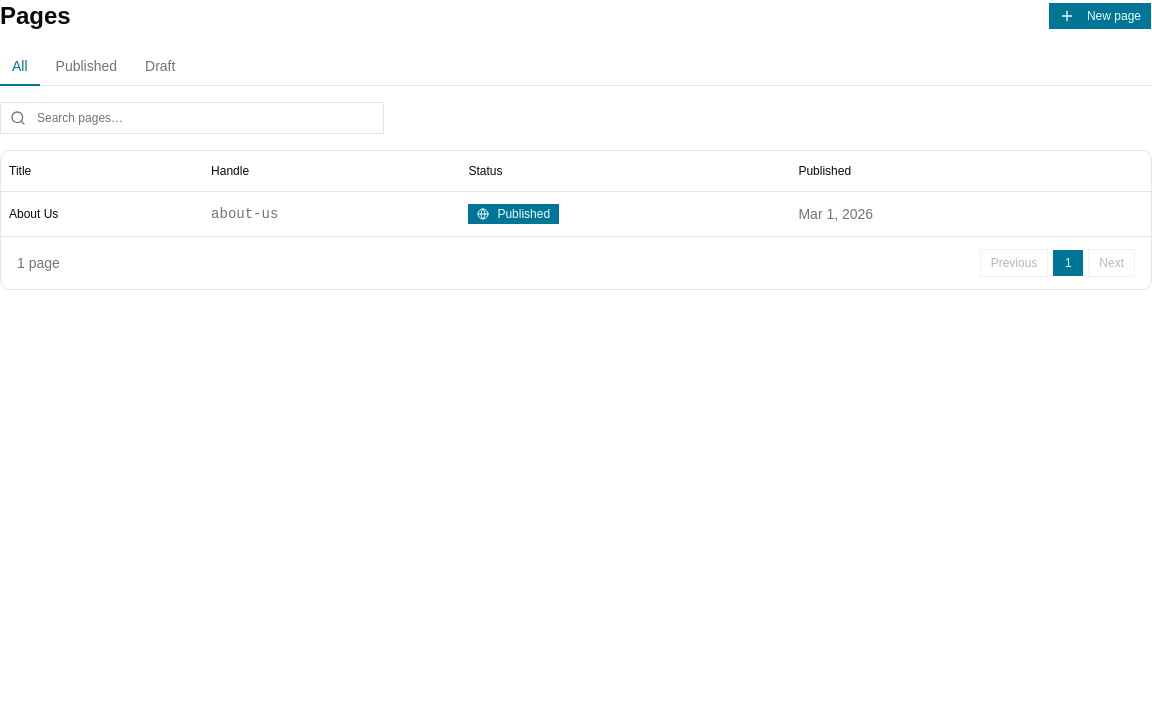
Scenario: PagesPage › New page button opens dialog with title input
Click the button "New page" at (1100, 16), box [1048, 2, 1151, 30]
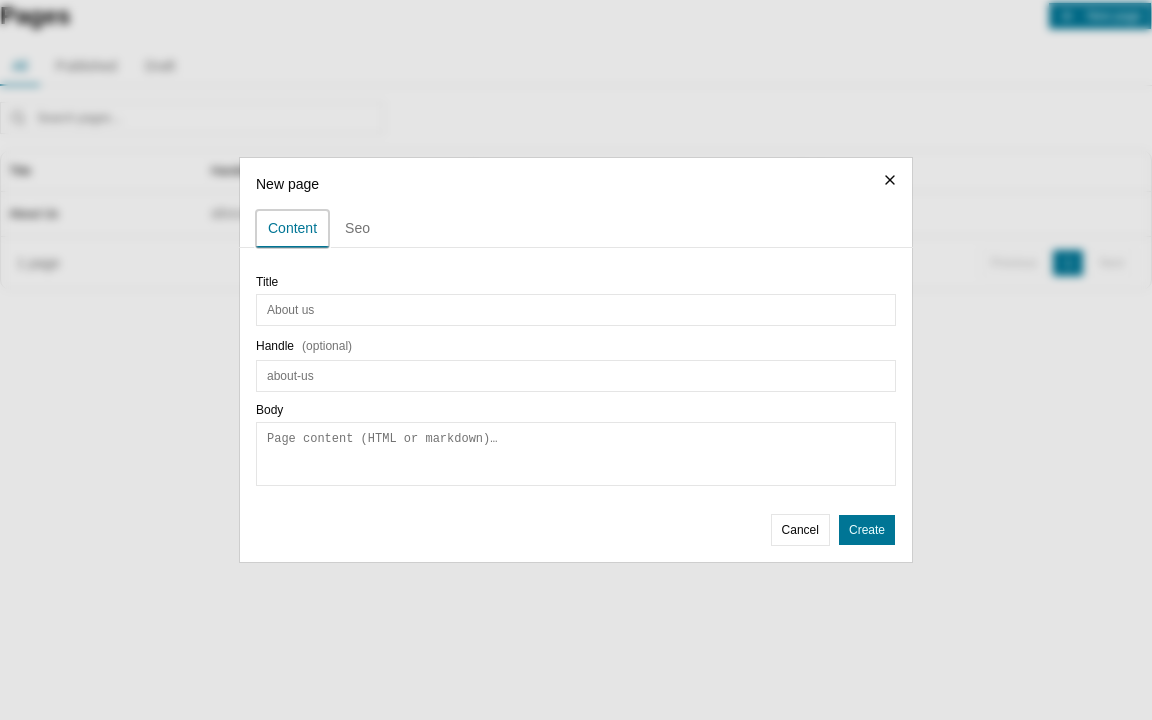
Check: the dialog is shown, box [240, 158, 912, 562]
Check: the field with placeholder "About us" is shown, box [256, 294, 896, 326]
